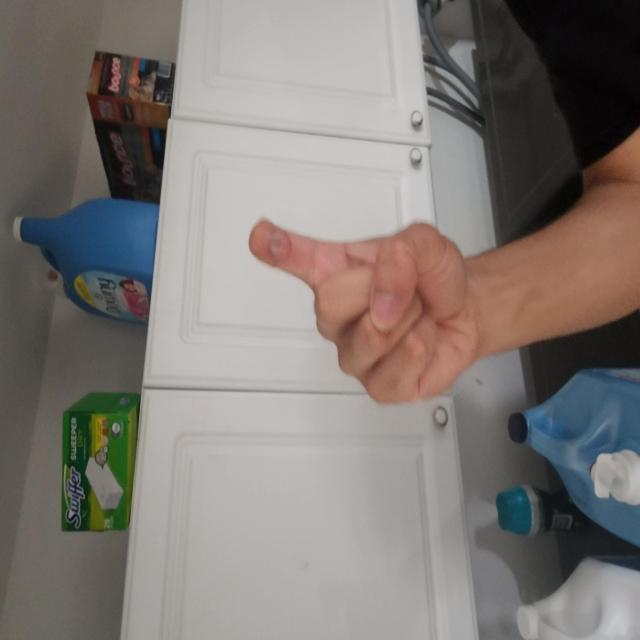X: (129, 291, 346, 640)
